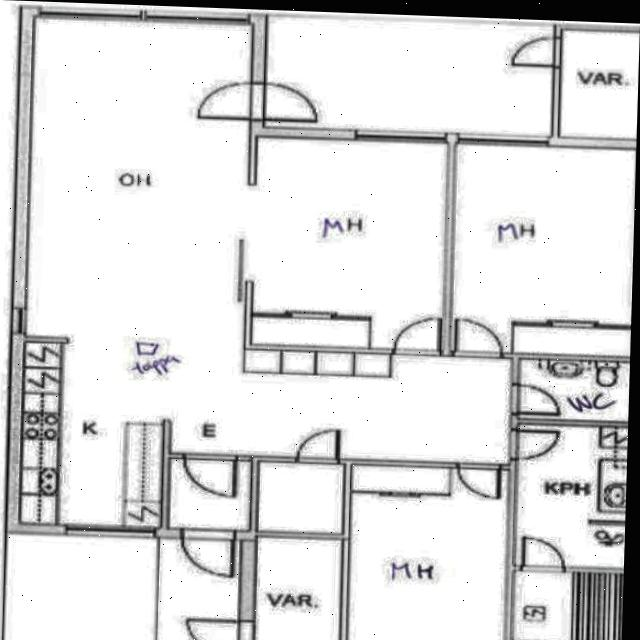room: (453, 144, 635, 356), (518, 425, 628, 567), (561, 31, 640, 138), (513, 571, 624, 640), (519, 360, 630, 421), (259, 463, 343, 533), (170, 460, 250, 530)
